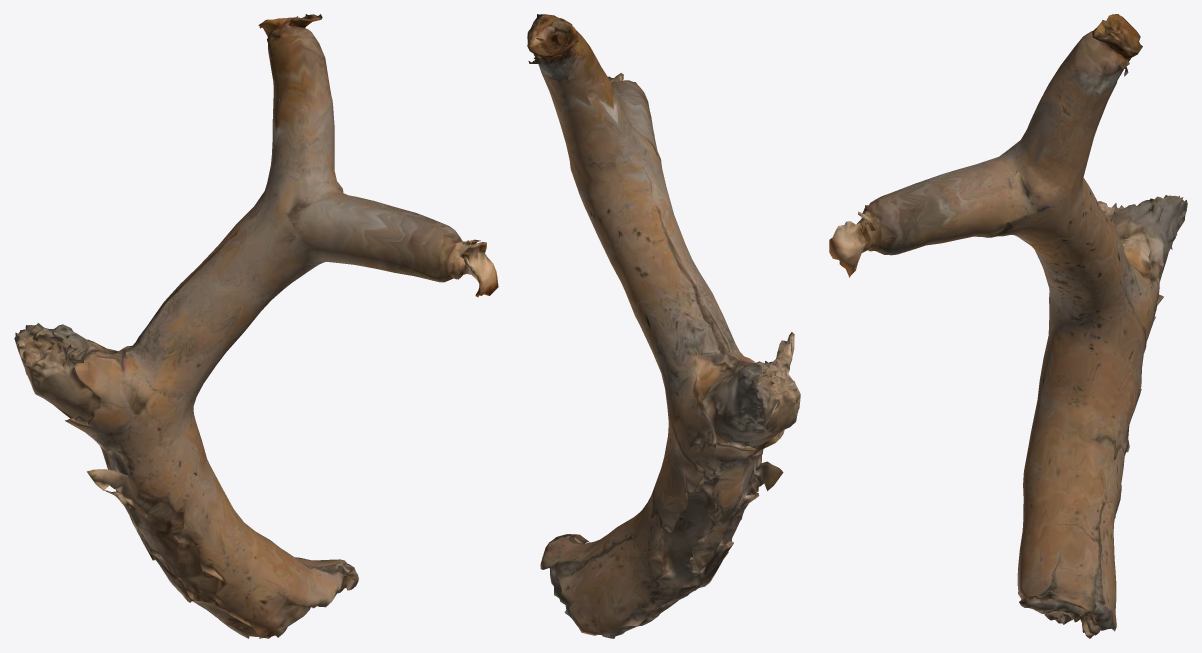
The model's file is dead-quiver-branch-01.glb.
3 renders of one model, left to right at view 1: azimuth 30°, elevation 25°; view 2: azimuth 150°, elevation 25°; view 3: azimuth 270°, elevation 25°, orthographic. The views are drawn at different scales.
Visible parts, largest first — view 1: dead_quiver_branch_01; view 2: dead_quiver_branch_01; view 3: dead_quiver_branch_01.
Boxes of the visible parts, x1=… form: dead_quiver_branch_01: x1=14, y1=14, x2=498, y2=638; dead_quiver_branch_01: x1=527, y1=14, x2=800, y2=638; dead_quiver_branch_01: x1=829, y1=14, x2=1187, y2=638.
Size of the model in its own units: 0.2547 by 0.4382 by 0.226.
Materials: 1 (1 with a texture image).
